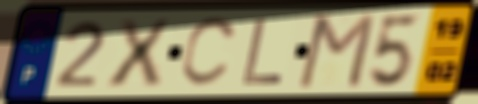2: (52, 19, 109, 89)
5: (365, 12, 426, 89)
C: (177, 15, 241, 91)
L: (239, 17, 287, 87)
M: (293, 12, 379, 91)
X: (104, 17, 173, 90)
